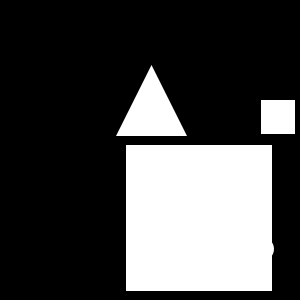circle: (126, 145, 272, 291), (261, 100, 295, 134)
rectangle: (250, 237, 274, 261)
triangle: (116, 65, 187, 136)
